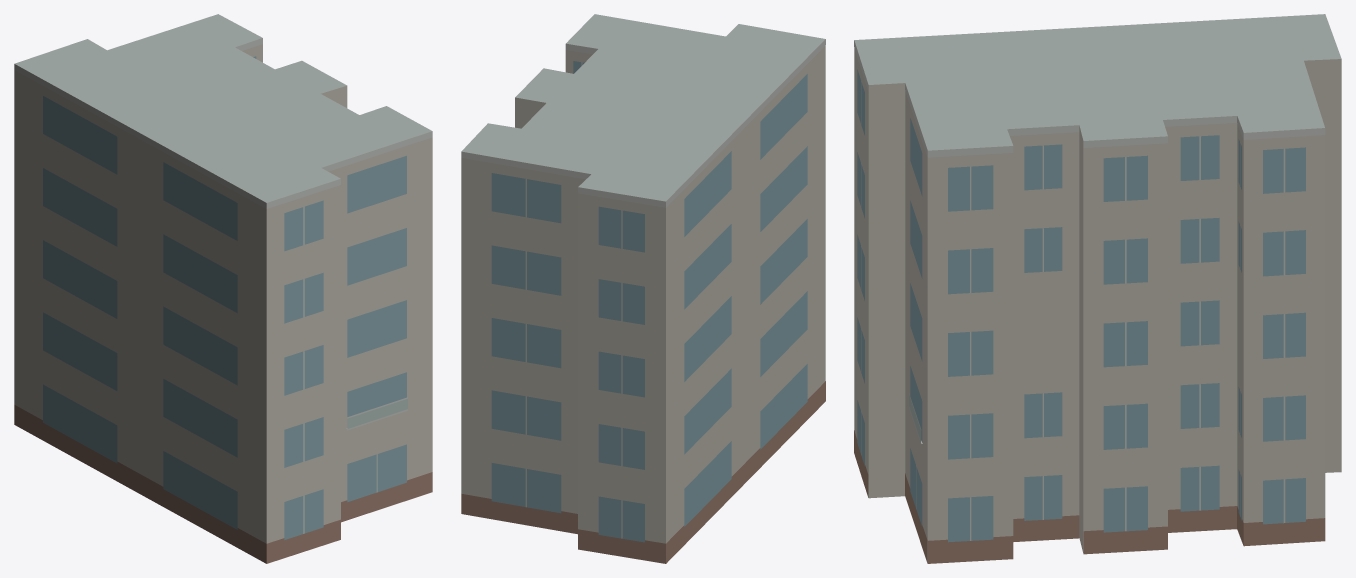
File: survey-upis-32742930.glb
3 views of the same model, side by side, from view 1: azimuth 30°, elevation 25°; view 2: azimuth 150°, elevation 25°; view 3: azimuth 270°, elevation 25° (orthographic). The views are drawn at different scales.
Parts seen in each view (by area): view 1: survey-upis-32742930.tmp; view 2: survey-upis-32742930.tmp; view 3: survey-upis-32742930.tmp.
Boxes of the visible parts, <box> form: survey-upis-32742930.tmp: <box>14,14,432,563</box>; survey-upis-32742930.tmp: <box>461,14,825,563</box>; survey-upis-32742930.tmp: <box>854,14,1341,563</box>.
Size of the model in its own units: 10.23 by 14.4 by 15.41.
